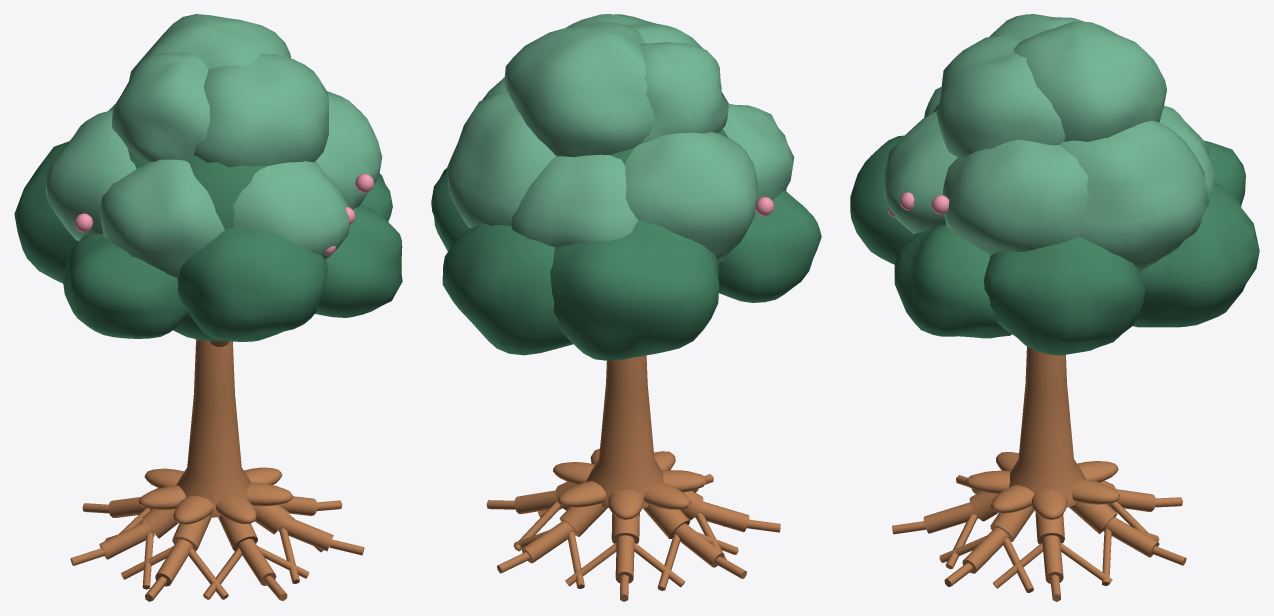
File: tree_small.glb
The picture shows the model from 3 angles, left to right: view 1: azimuth 30°, elevation 25°; view 2: azimuth 150°, elevation 25°; view 3: azimuth 270°, elevation 25°; orthographic projection.
Visible parts, largest first — view 1: tree_small; view 2: tree_small; view 3: tree_small.
Boxes of the visible parts, bbox=[...] form: tree_small: bbox=[14, 14, 402, 601]; tree_small: bbox=[431, 14, 821, 601]; tree_small: bbox=[850, 14, 1259, 601].
Bounding box in the file's own units: 2.85 × 4.14 × 2.93.
1 material, 1 textured.
